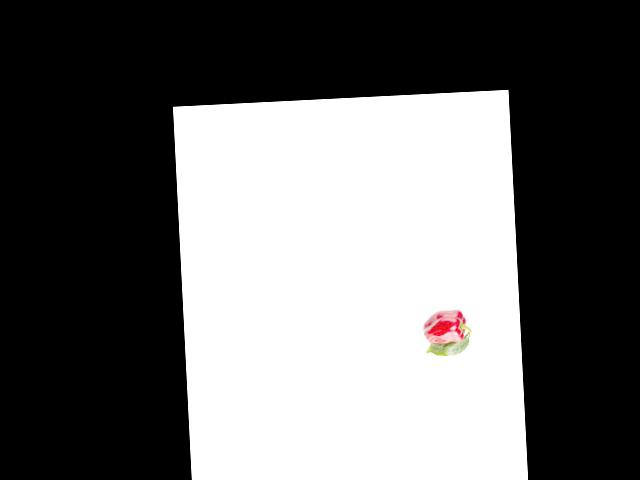bell_pepper: (420, 304, 471, 347)
